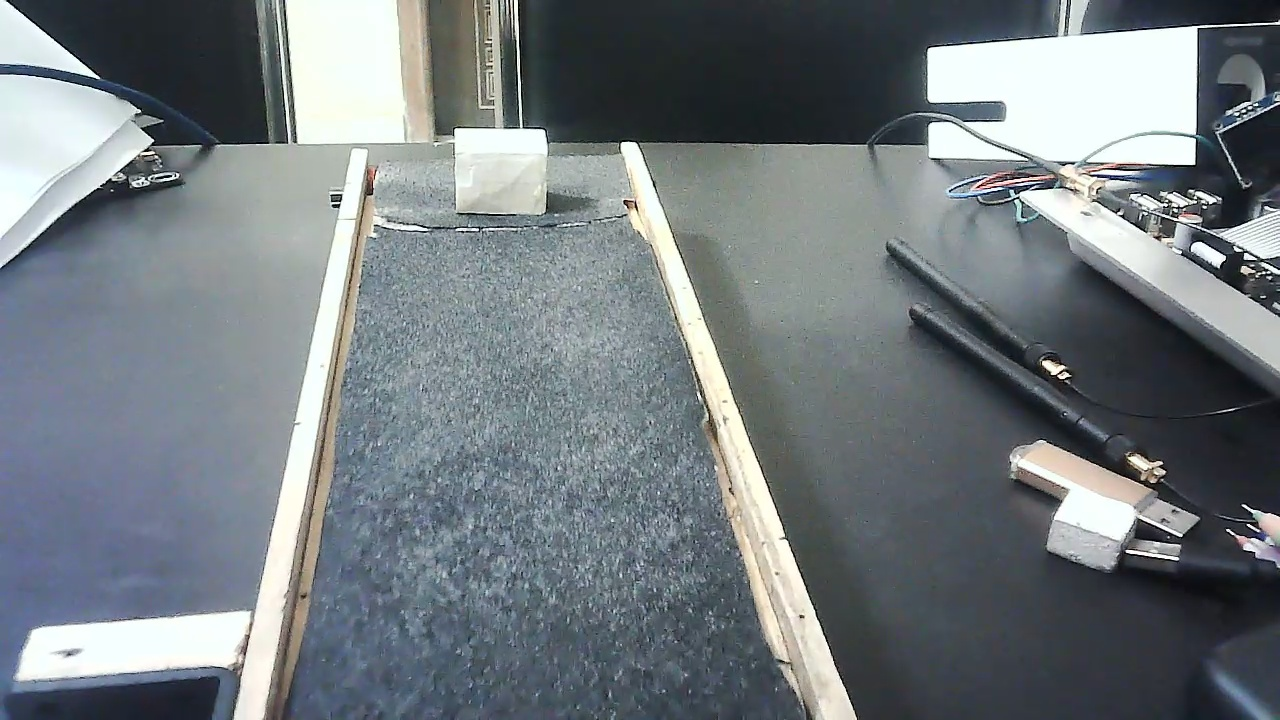Medium: (451, 122, 547, 218)
